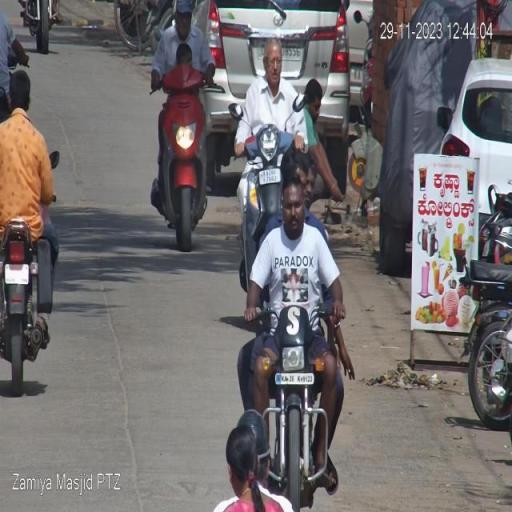tripple riding: (240, 138, 350, 370)
